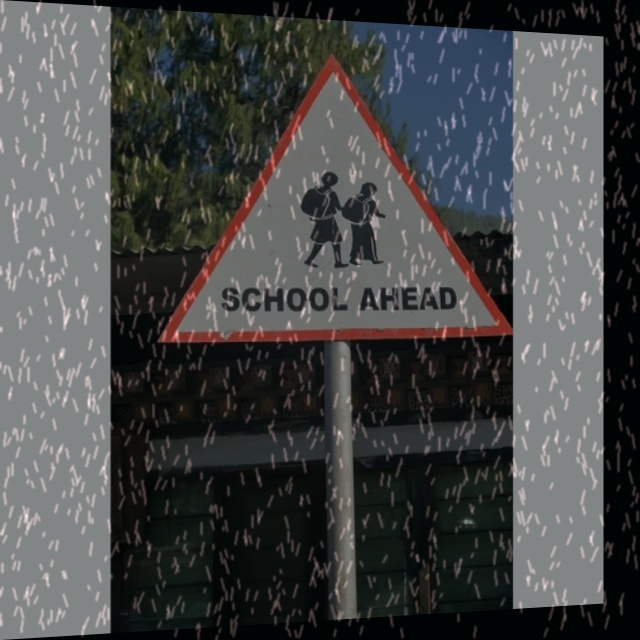School_Ahead: (170, 56, 494, 352)
